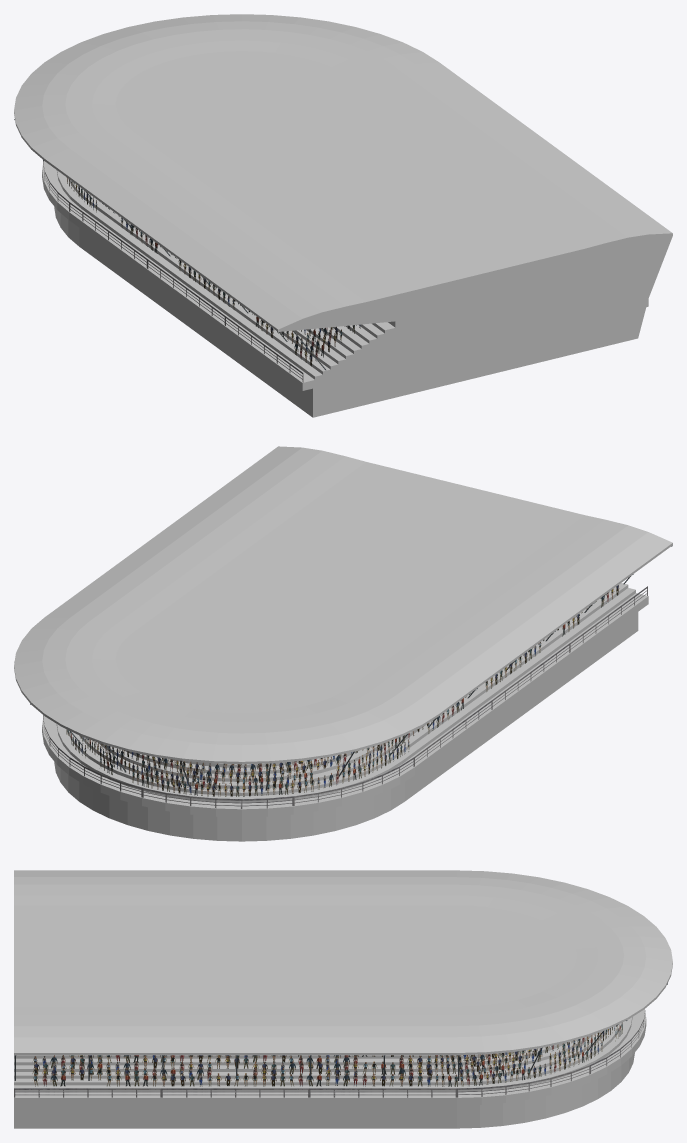
Rendered from Stand-08-m.fbx.
3 renders of one model, top to bottom at view 1: azimuth 30°, elevation 25°; view 2: azimuth 150°, elevation 25°; view 3: azimuth 270°, elevation 25°, orthographic. The views are drawn at different scales.
Parts seen in each view (by area): view 1: Stand-08-m, Audience; view 2: Stand-08-m, Audience; view 3: Stand-08-m, Audience.
Part boxes in pixels (left/top/right/bottom): Stand-08-m: left=14, top=14, right=672, bottom=417; Audience: left=66, top=177, right=360, bottom=366; Stand-08-m: left=14, top=446, right=672, bottom=841; Audience: left=66, top=585, right=619, bottom=796; Stand-08-m: left=14, top=870, right=672, bottom=1128; Audience: left=32, top=1023, right=622, bottom=1086.
Bounding box in the file's own units: 5084 × 1271 × 7752.
